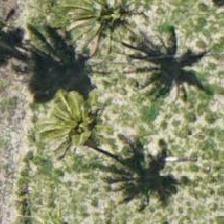coconut_tree: (28, 74, 118, 164)
